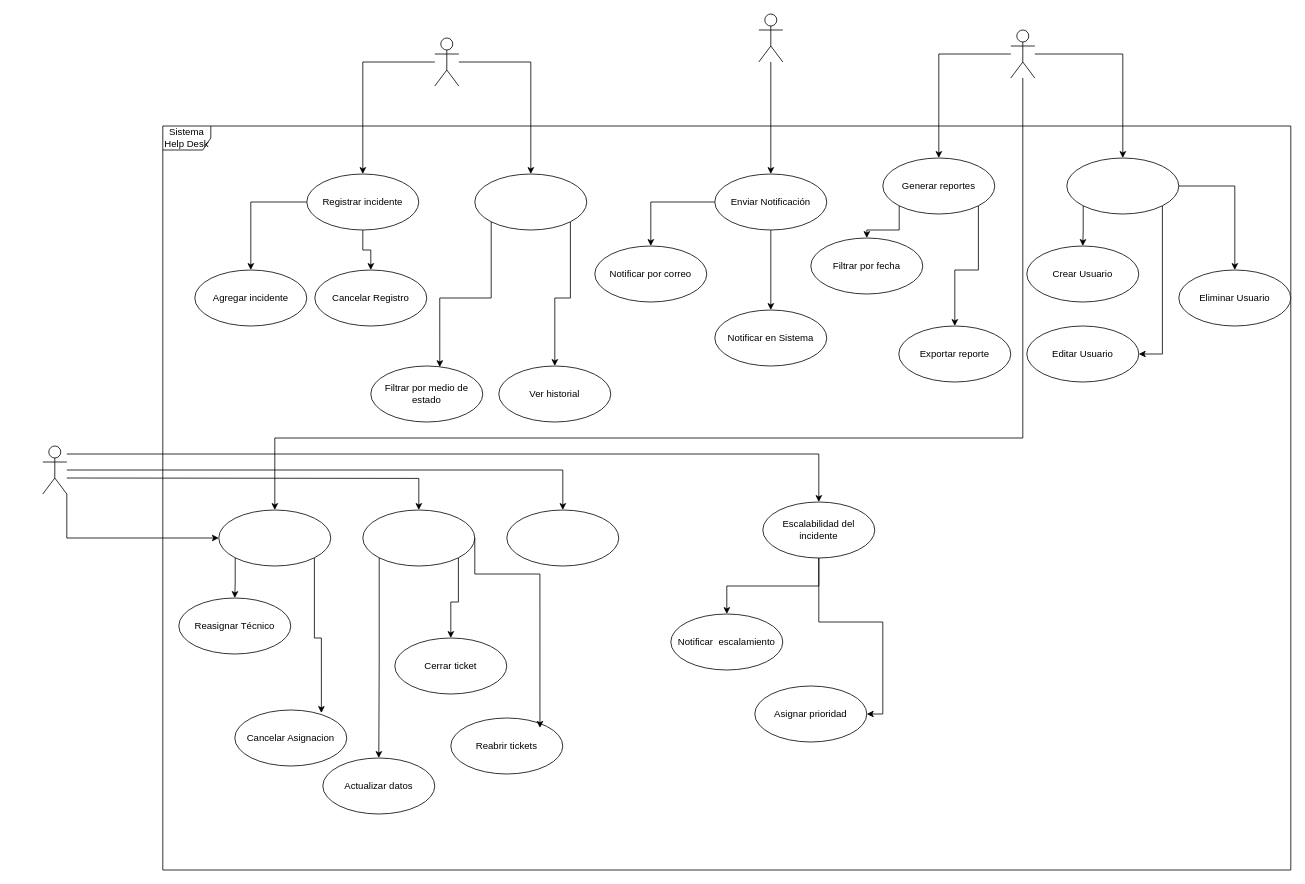
The diagram is 1305 pixels wide and 884 high, and some of its shapes have lost their labels. Here are the shapes that lost their labels. From the top down, the centre of each, then its label:
point 770,37: Sistema de Notificaciones
point 1022,53: Administrador del Sistema
point 446,61: Usuario Final
point 530,201: Consultar estado ticket
point 1122,185: Administrar usuarios
point 54,469: Tecnico de Soporte
point 274,537: Asignar Técnico
point 418,537: Gestion estado de la resolucion del problema
point 562,537: Diagnostico y Solucion
